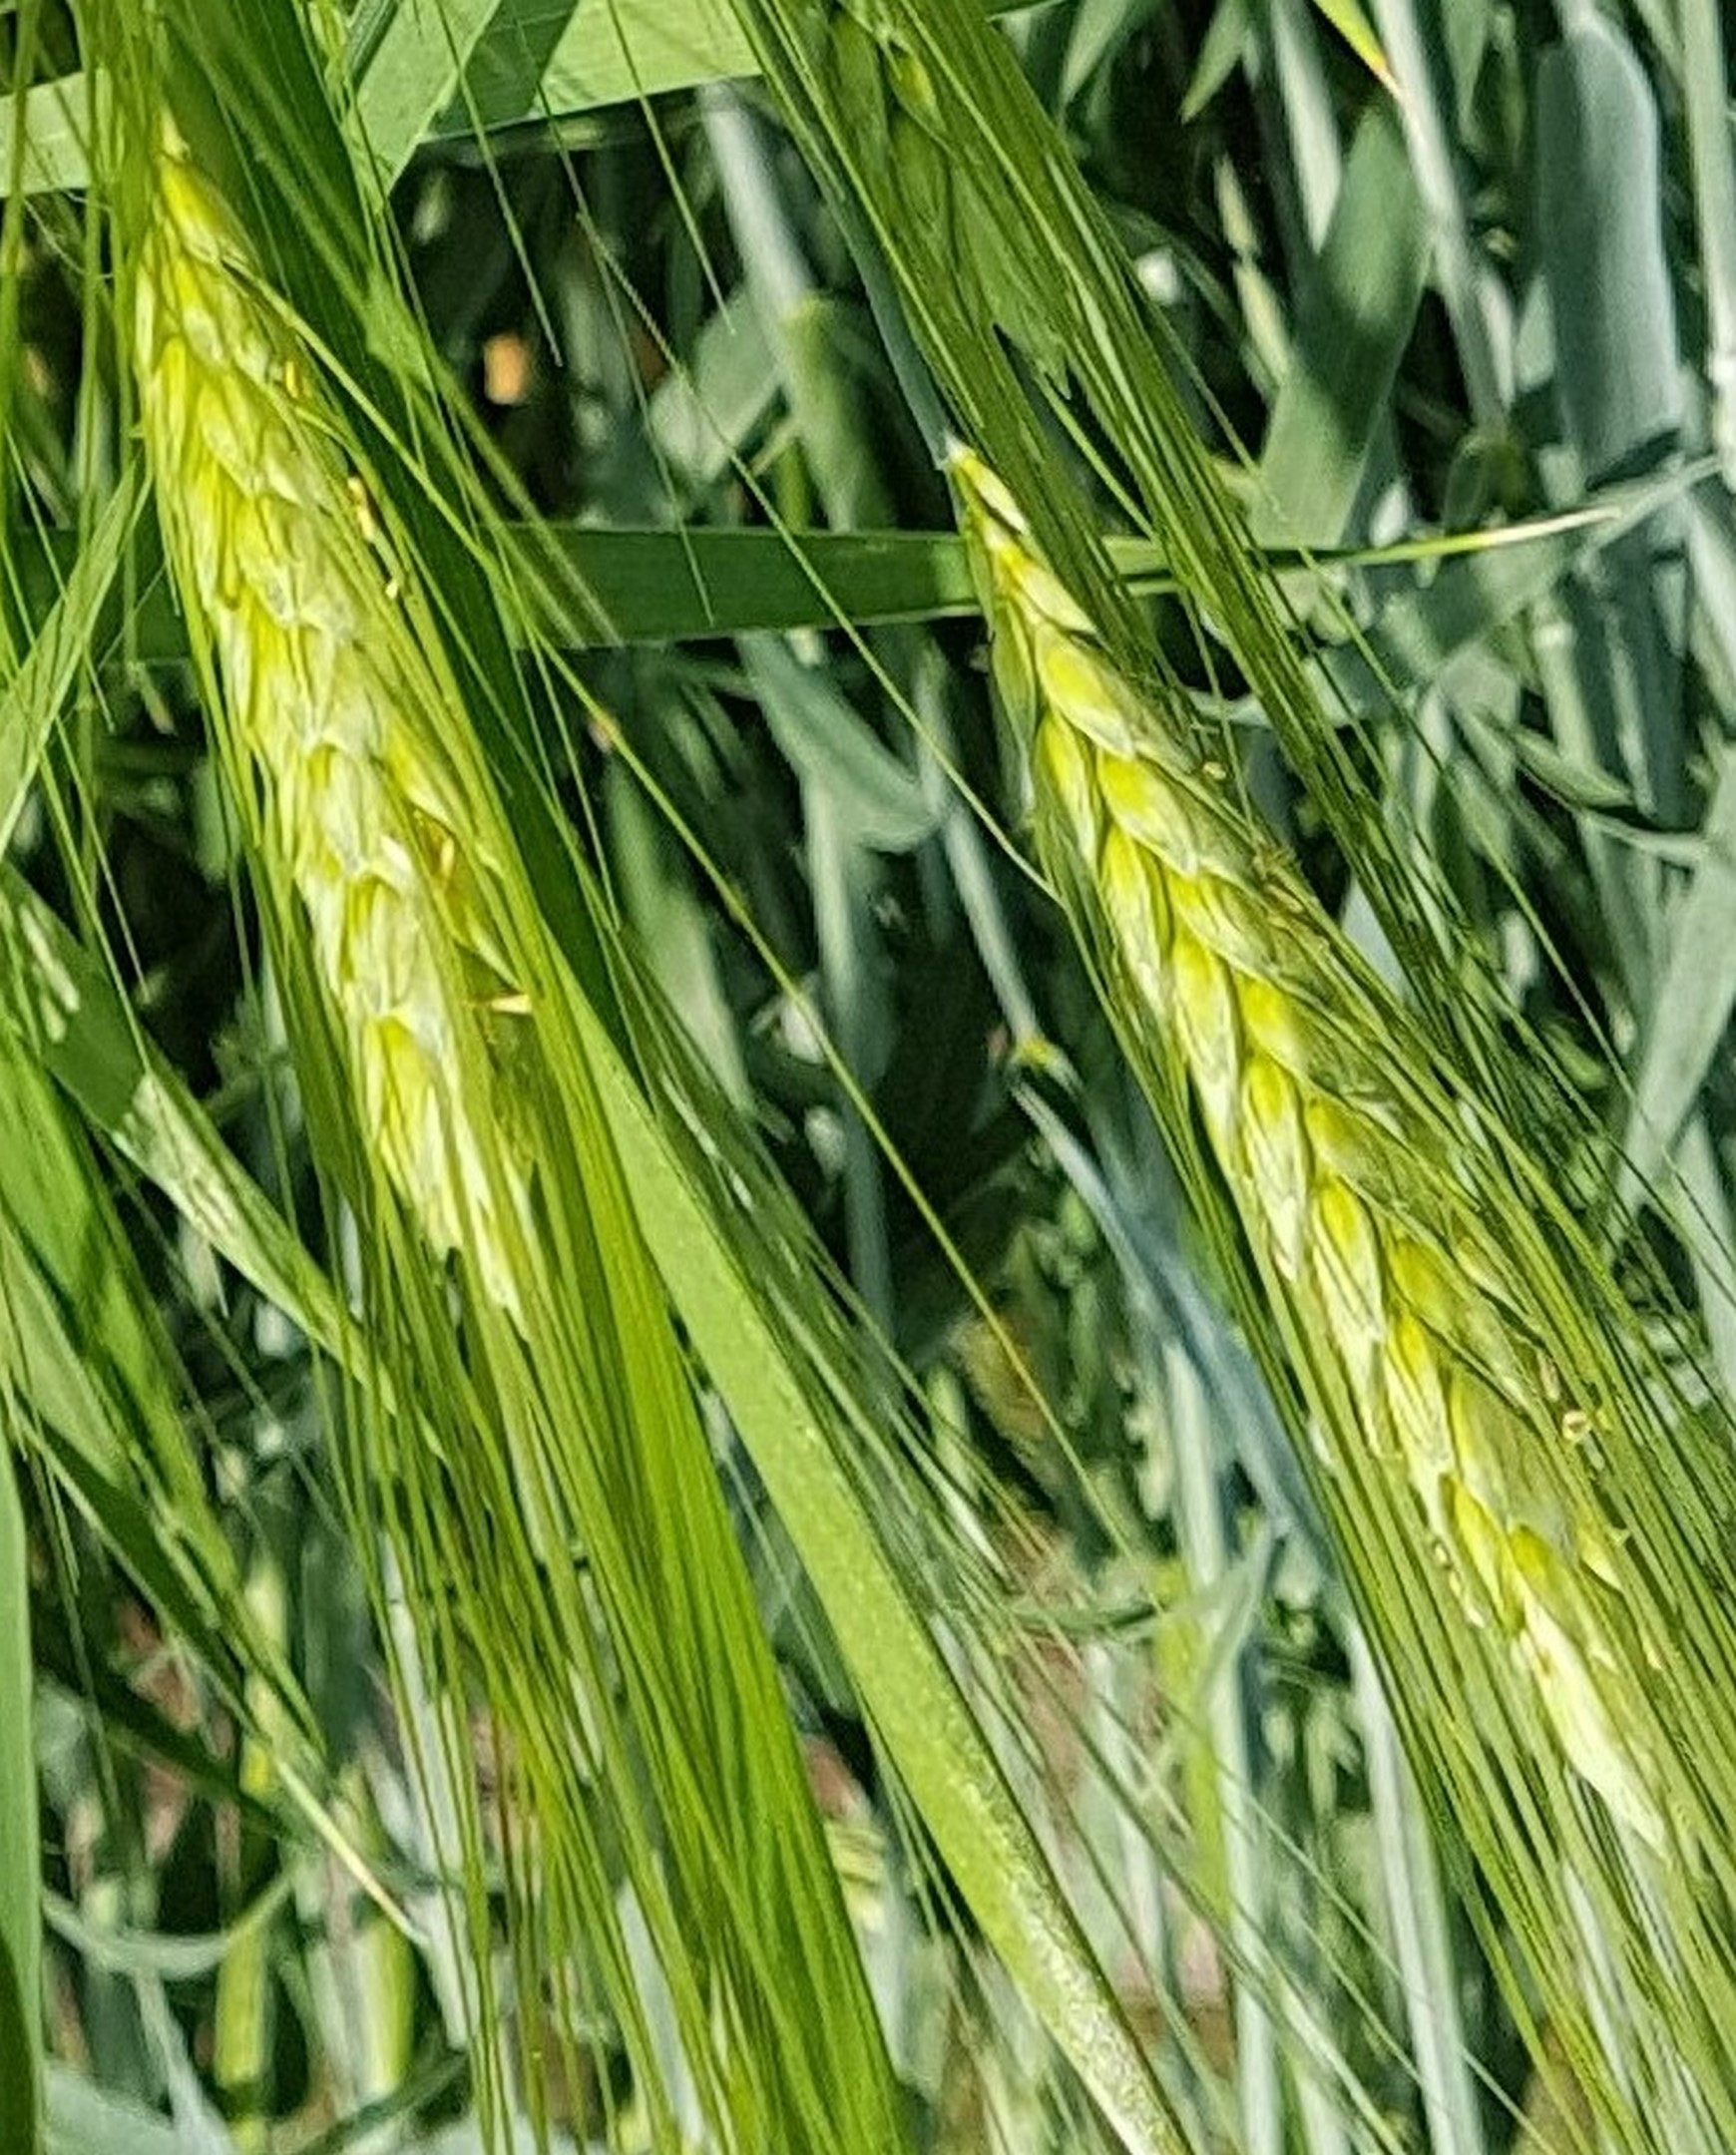Healthy Wheat: (988, 540, 1736, 1820)
